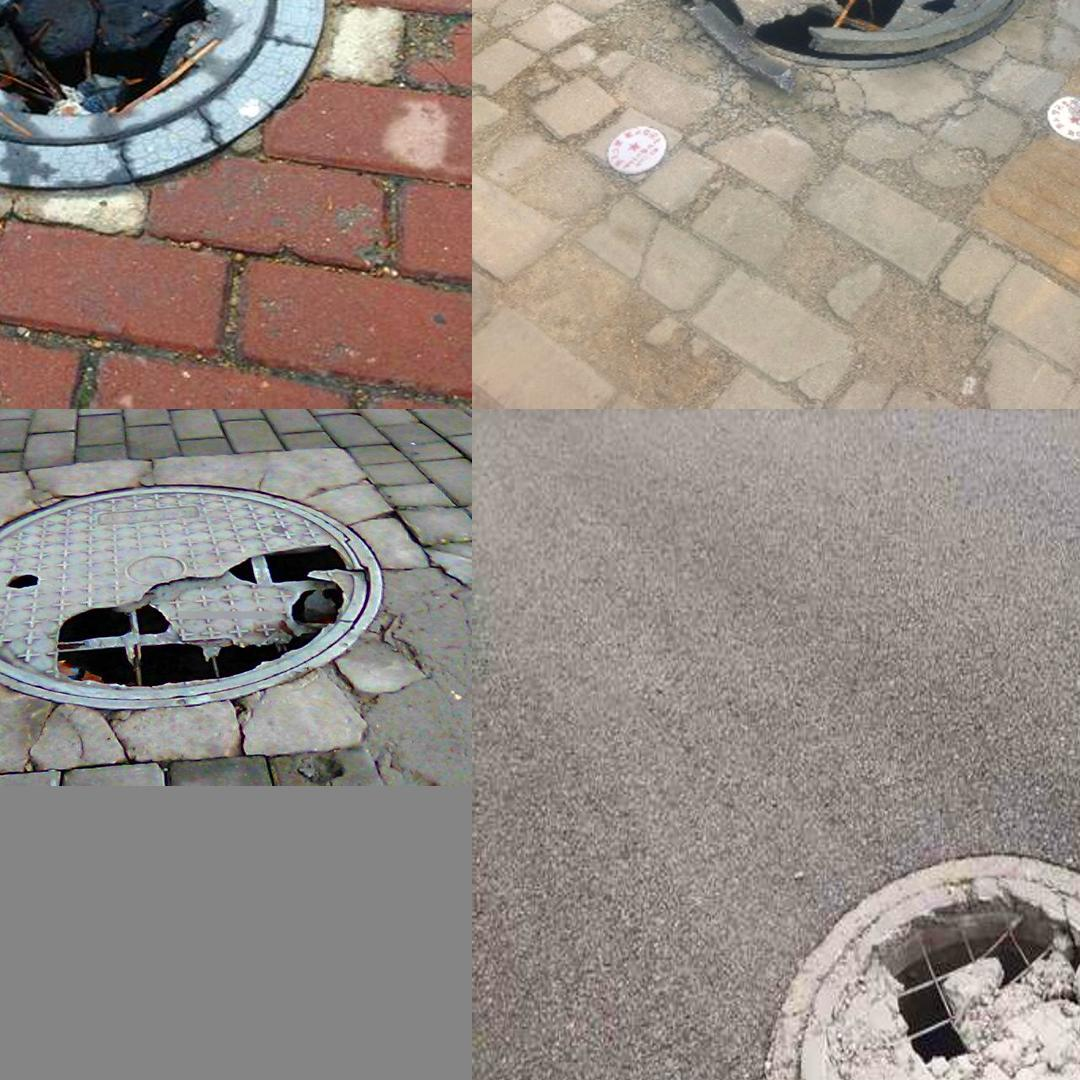broke: (0, 485, 383, 709), (756, 844, 1080, 1080), (0, 0, 358, 191), (672, 0, 1043, 69)
